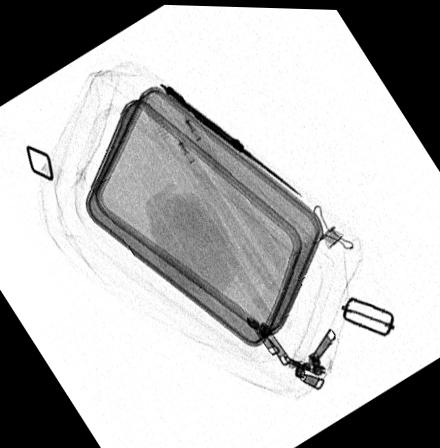Knife: (158, 80, 301, 194)
